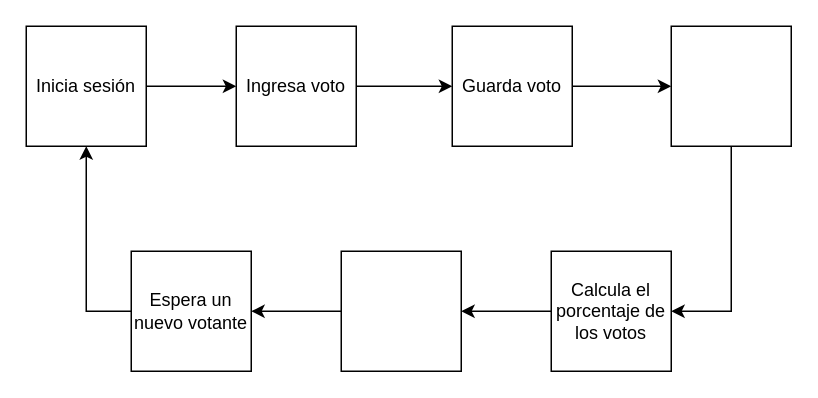
Image size: 818x398. Some labels were removed from this diagram. Here are the shapes that lost their labels. From the top down, the centre of each, then its label:
(730,85): Registra el voto
(400,310): Envia un certificado del voto
